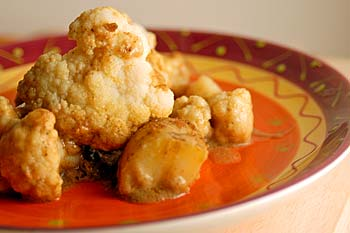cauliflower: (17, 5, 175, 151)
